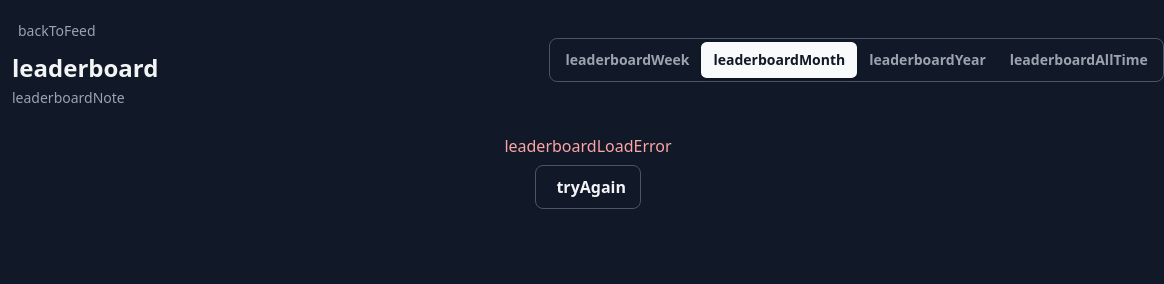
it: LeaderboardPage › offers a retry when loading fails
Expected: the message shows "leaderboardLoadError", [504,135,672,157]
Click the button "tryAgain" at (588, 187), box [535,165,641,209]
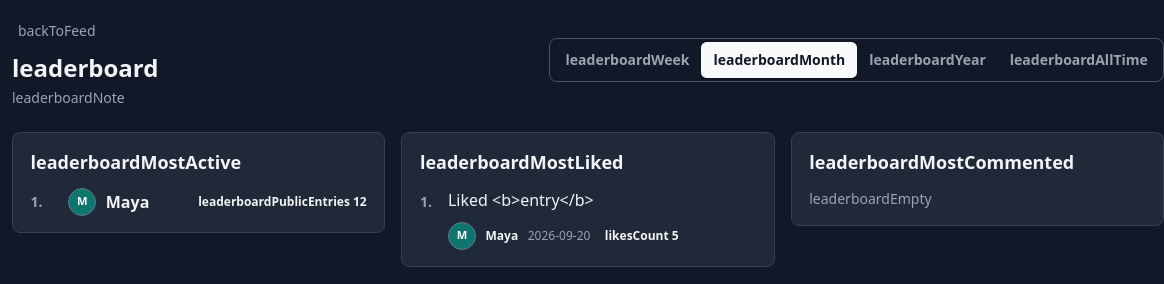
Expected: the element "leaderboardMostLiked" is shown, [401,132,775,267]
